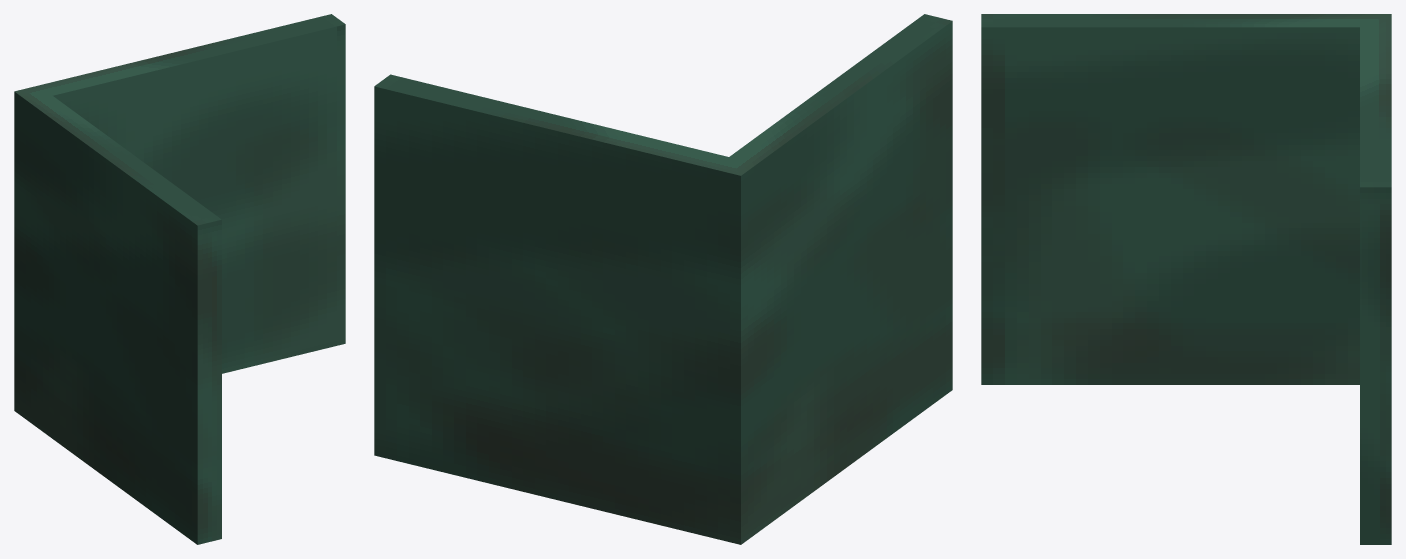
File: wall_corner.glb
3 views of the same model, side by side, from view 1: azimuth 30°, elevation 25°; view 2: azimuth 150°, elevation 25°; view 3: azimuth 270°, elevation 25° (orthographic). The views are drawn at different scales.
Visible parts, largest first — view 1: Cube; view 2: Cube; view 3: Cube.
Part boxes in pixels (box(x1,y1,x2,y2)): Cube: box(14, 14, 345, 544); Cube: box(374, 14, 952, 544); Cube: box(981, 14, 1391, 544).
Size of the model in its own units: 2.08 by 2 by 2.08.
Materials: 1 (1 with a texture image).
